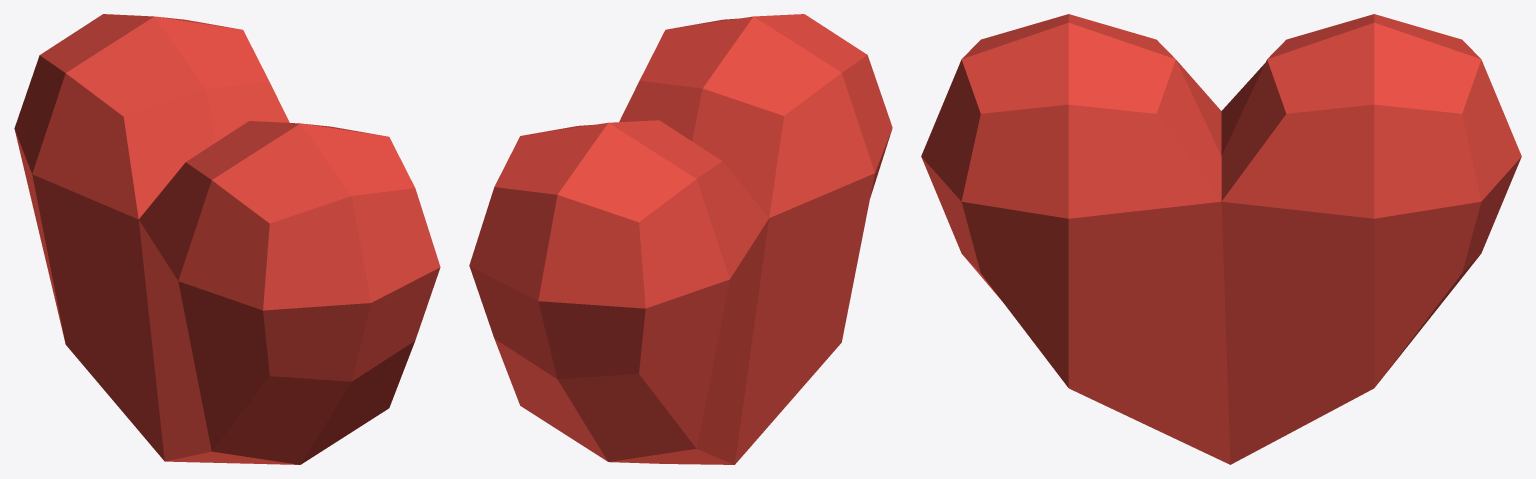
The model's file is Coeur.fbx.
The picture shows the model from 3 angles, left to right: view 1: azimuth 30°, elevation 25°; view 2: azimuth 150°, elevation 25°; view 3: azimuth 270°, elevation 25°; orthographic projection. The views are drawn at different scales.
Visible parts, largest first — view 1: Coeur; view 2: Coeur; view 3: Coeur.
Part boxes in pixels (<box>): Coeur: <box>14,14,440,464</box>; Coeur: <box>469,14,892,464</box>; Coeur: <box>921,14,1521,464</box>.
Size of the model in its own units: 168 by 261 by 342.
